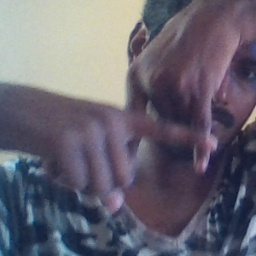H: (87, 58, 234, 179)
